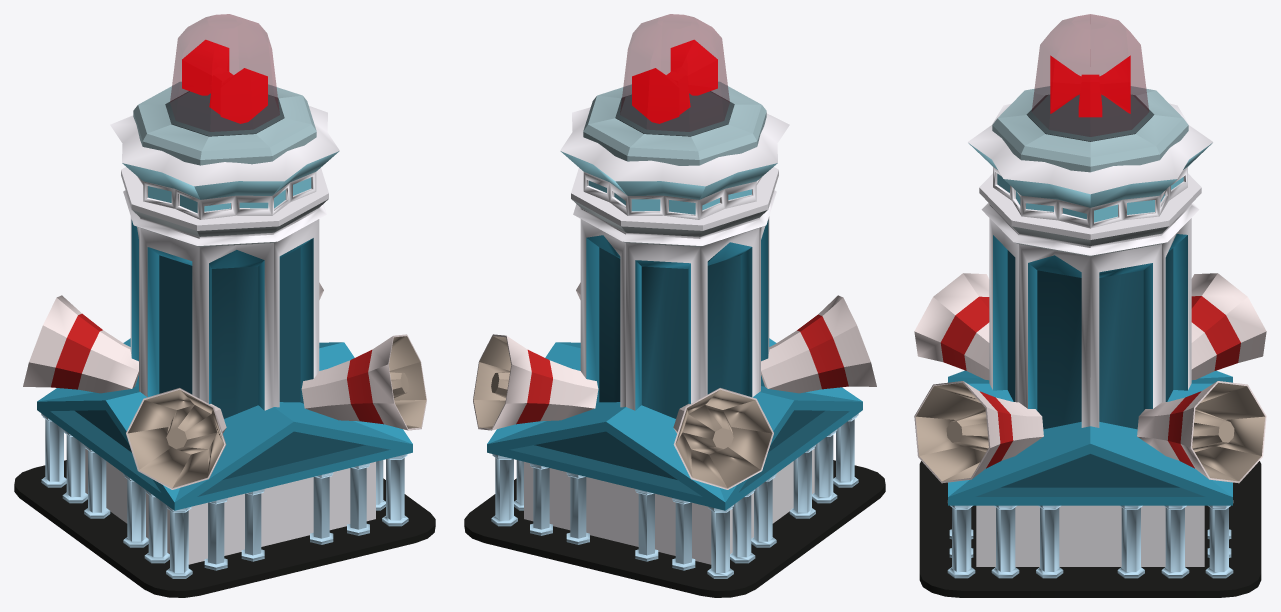
File: Sirine_Building_emmision.glb
The picture shows the model from 3 angles, left to right: view 1: azimuth 30°, elevation 25°; view 2: azimuth 150°, elevation 25°; view 3: azimuth 270°, elevation 25°; orthographic projection. The views are drawn at different scales.
Parts seen in each view (by area): view 1: Sirine_Building_emission, Cube072; view 2: Sirine_Building_emission, Cube072; view 3: Sirine_Building_emission, Cube072.
Boxes of the visible parts, box(x1,y1,x2,y2) form: Sirine_Building_emission: box(14, 14, 435, 597); Cube072: box(182, 39, 267, 123); Sirine_Building_emission: box(464, 14, 885, 597); Cube072: box(632, 39, 717, 123); Sirine_Building_emission: box(914, 14, 1266, 597); Cube072: box(1050, 55, 1130, 117).
Size of the model in its own units: 4 by 6.31 by 4.
3 materials, 1 textured.
